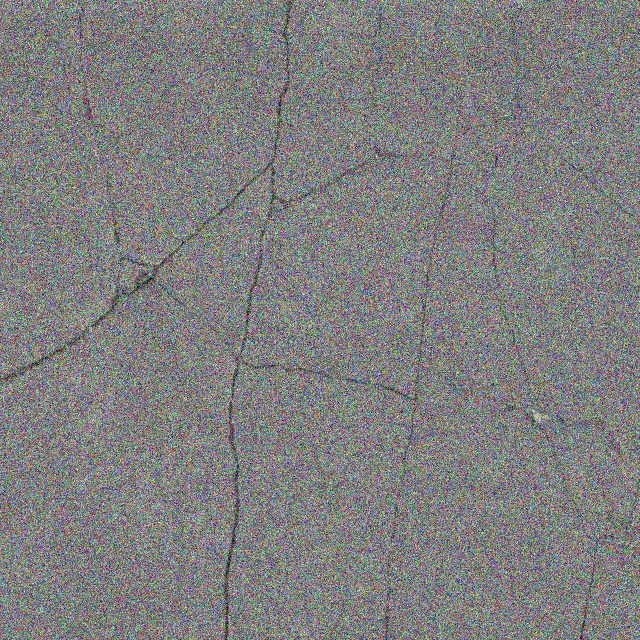SurfaceCrack: (4, 7, 408, 638)
